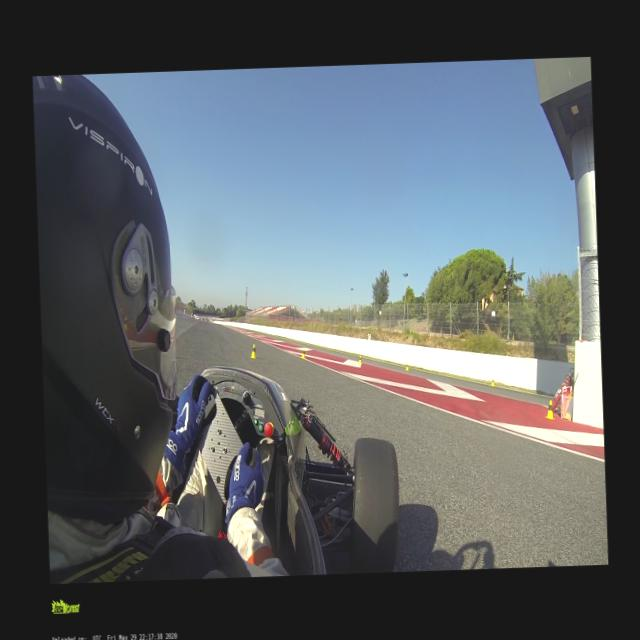yellow_cone: (543, 399, 554, 419), (250, 343, 256, 358), (300, 347, 304, 358), (491, 376, 494, 386), (358, 354, 361, 363), (405, 361, 408, 370)
